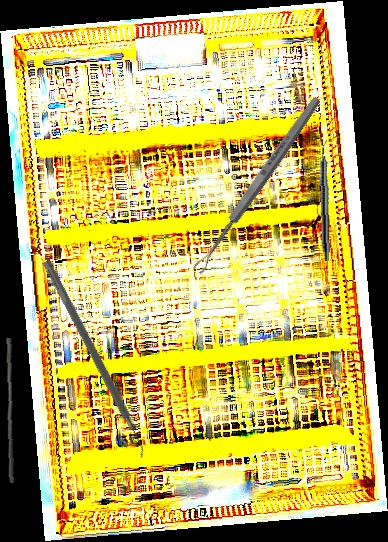Handpiece: (317, 139, 334, 262)
Pusher: (1, 337, 20, 484)
Spatula Surgical: (34, 259, 153, 461)
Surgical Spoon: (191, 94, 323, 276)
